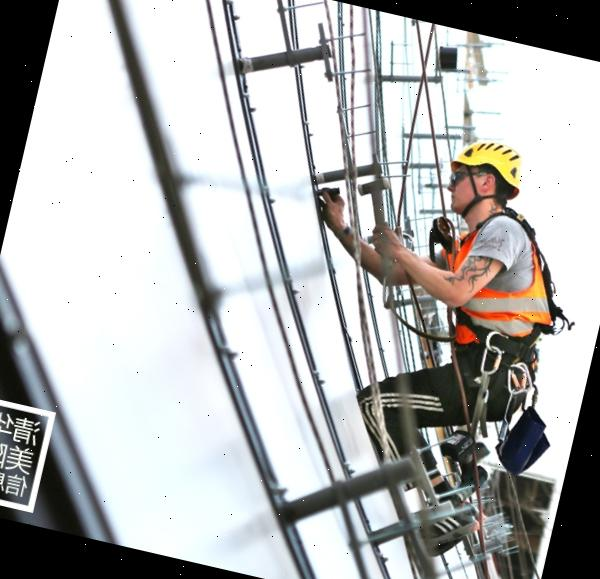helmet: (444, 128, 536, 194)
wear: (437, 206, 571, 363)
